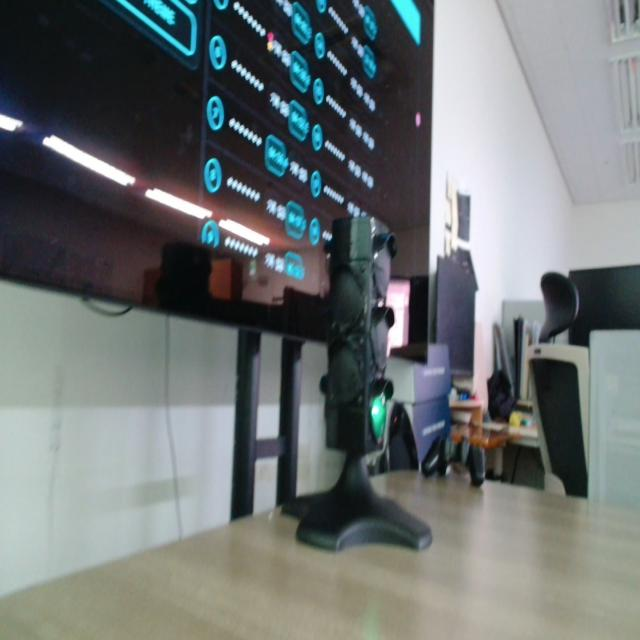green_light: (371, 395, 386, 441)
